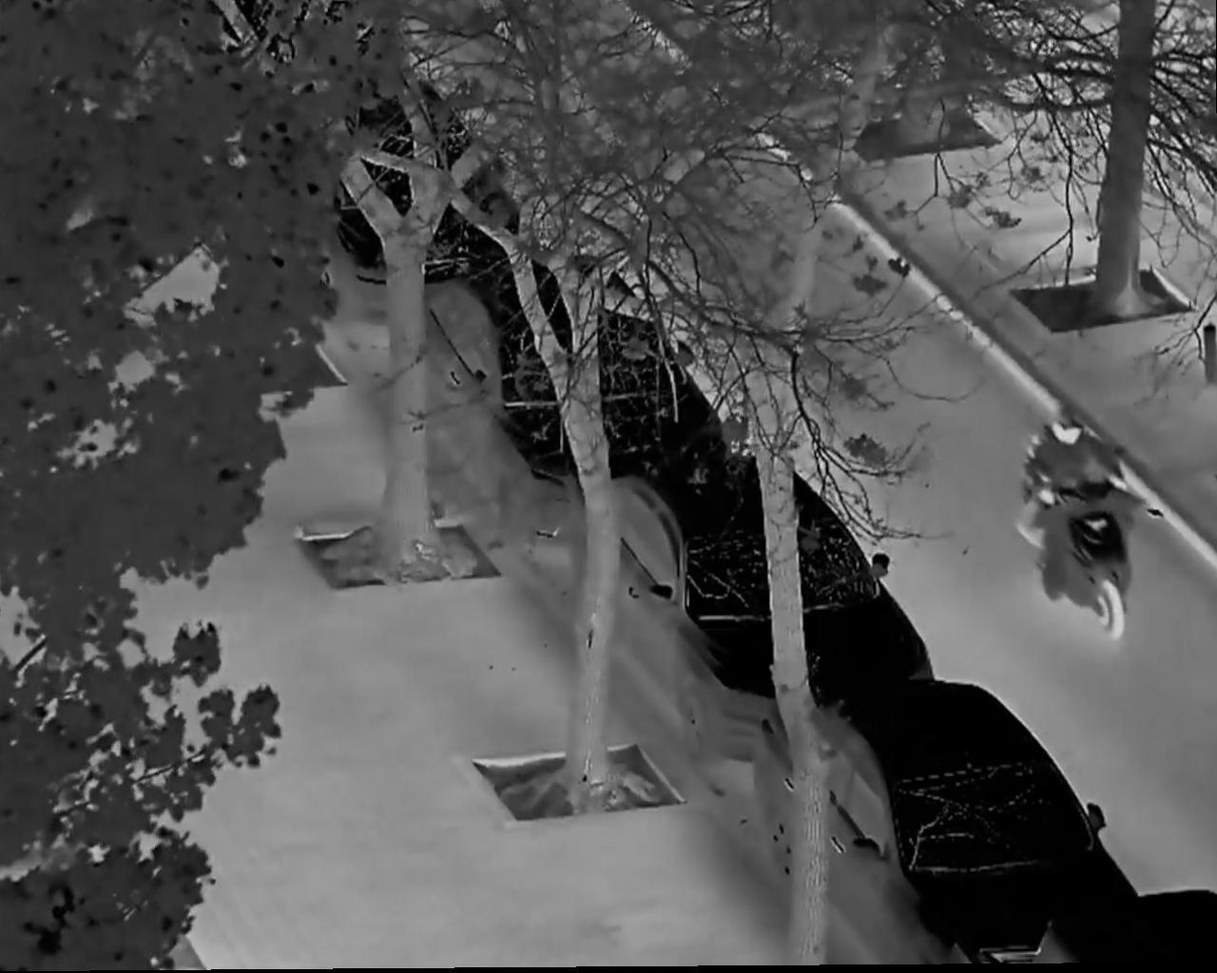person: (1033, 413, 1129, 572)
